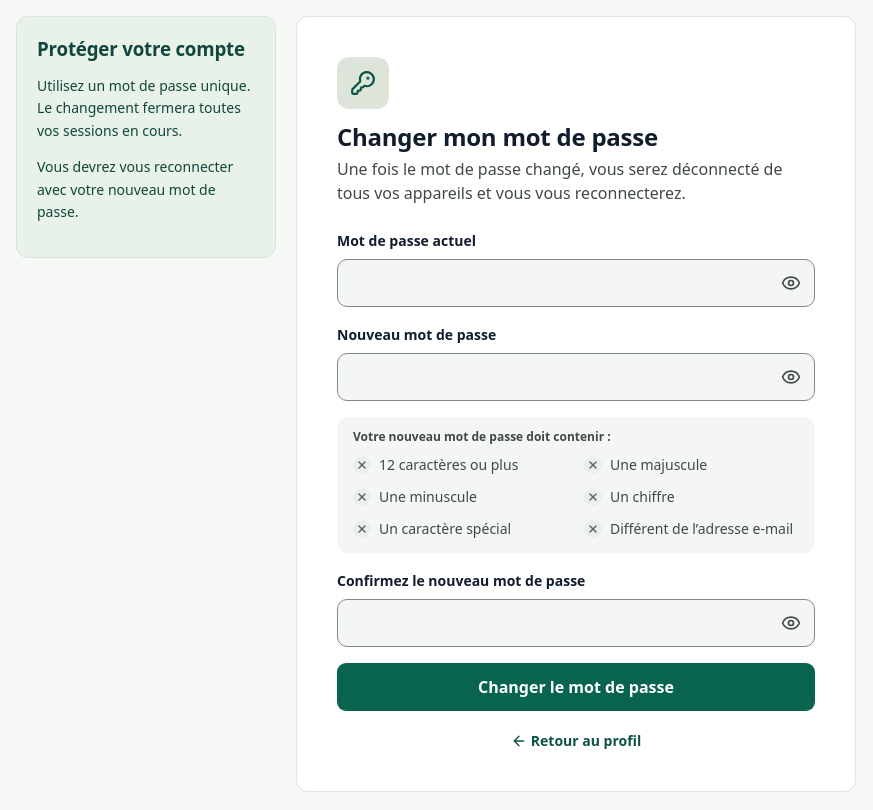
Test: 401 INVALID_CURRENT_PASSWORD shows the message under the current password and stays
Check: the heading "Changer mon mot de passe" is shown, box x1=337 y1=125 x2=658 y2=149
Type "Faux-Mot-2025!" into the password field labelled "Mot de passe actuel" at (576, 283), box x1=337 y1=259 x2=815 y2=307
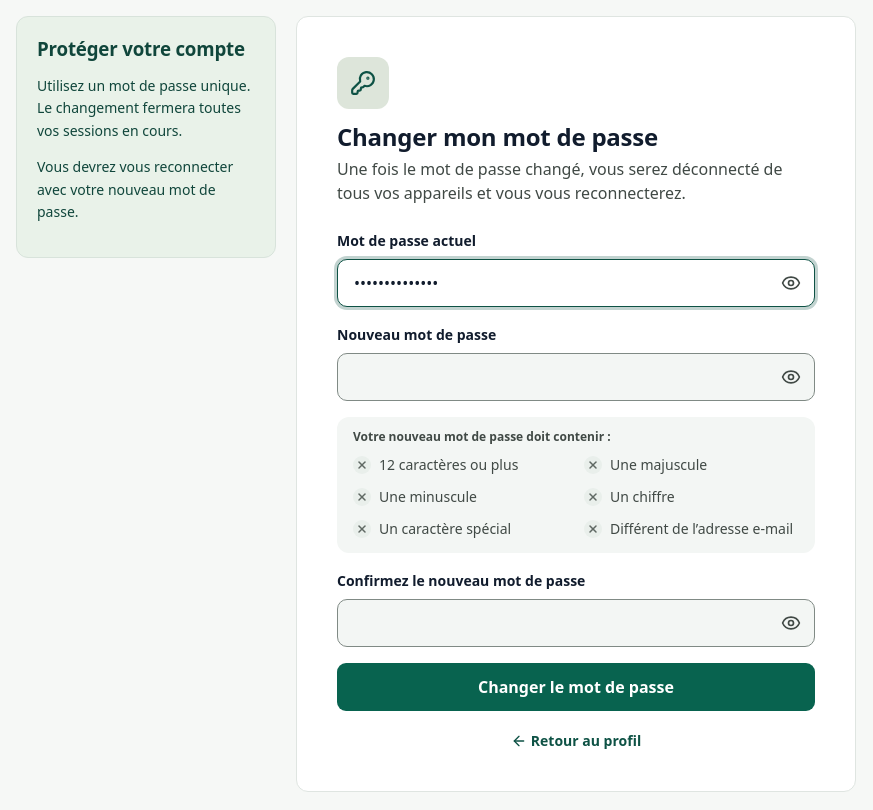
Type "Nouveau-Mot-2026!" into the password field labelled "Nouveau mot de passe" at (576, 377), box x1=337 y1=353 x2=815 y2=401
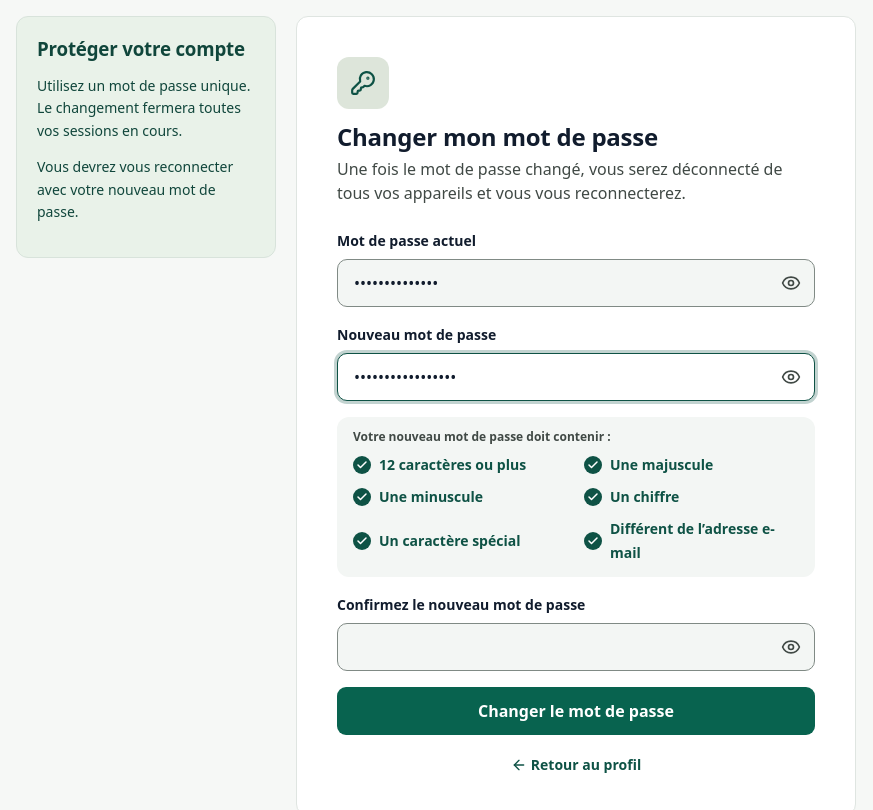
Type "Nouveau-Mot-2026!" into the password field labelled "Confirmez le nouveau mot de passe" at (576, 647), box x1=337 y1=623 x2=815 y2=671
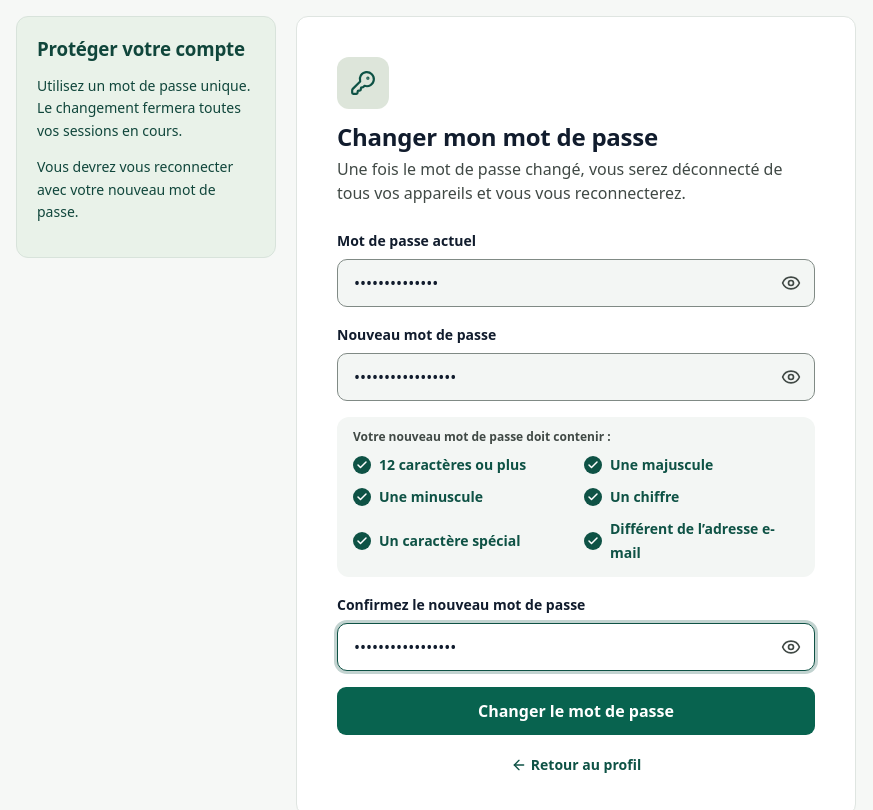
Click the button "Changer le mot de passe" at (576, 711), box x1=337 y1=687 x2=815 y2=735
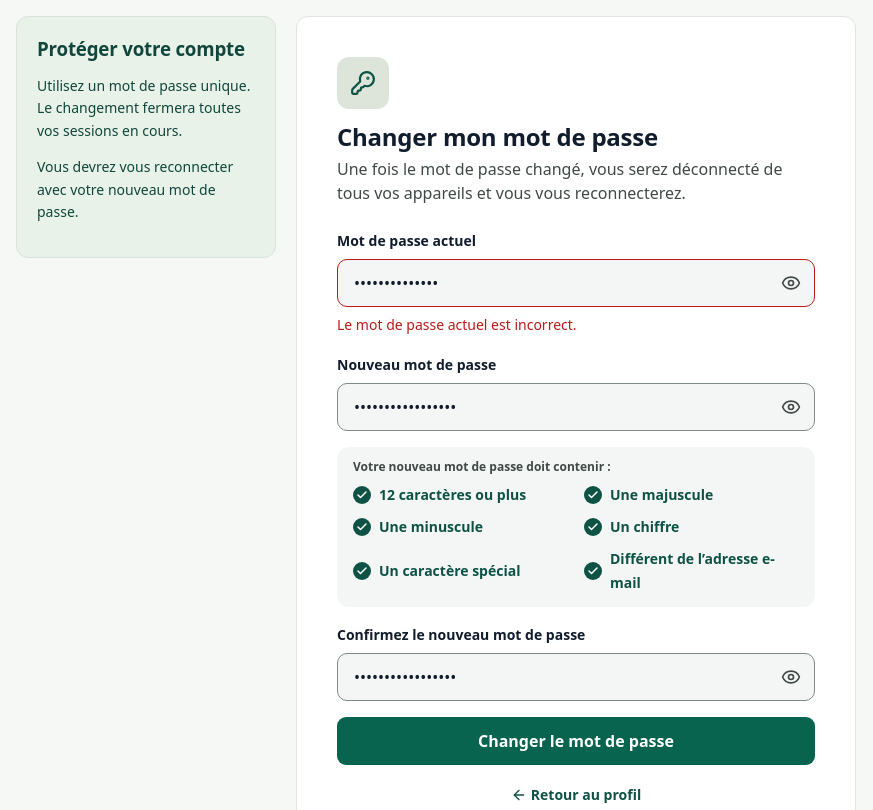
Check: the heading "Changer mon mot de passe" is shown, box x1=337 y1=125 x2=658 y2=149
Check: the text "Le mot de passe actuel est incorrect." is shown, box x1=337 y1=315 x2=577 y2=334
